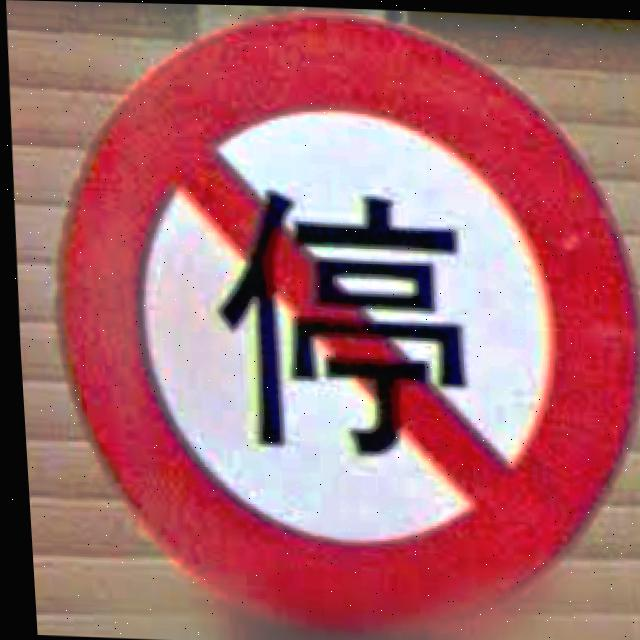nopark: (29, 1, 640, 640)
